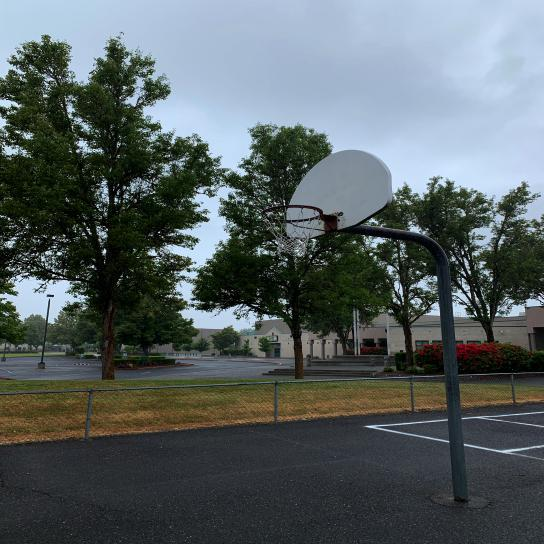basketball-hoop: (260, 204, 324, 258)
